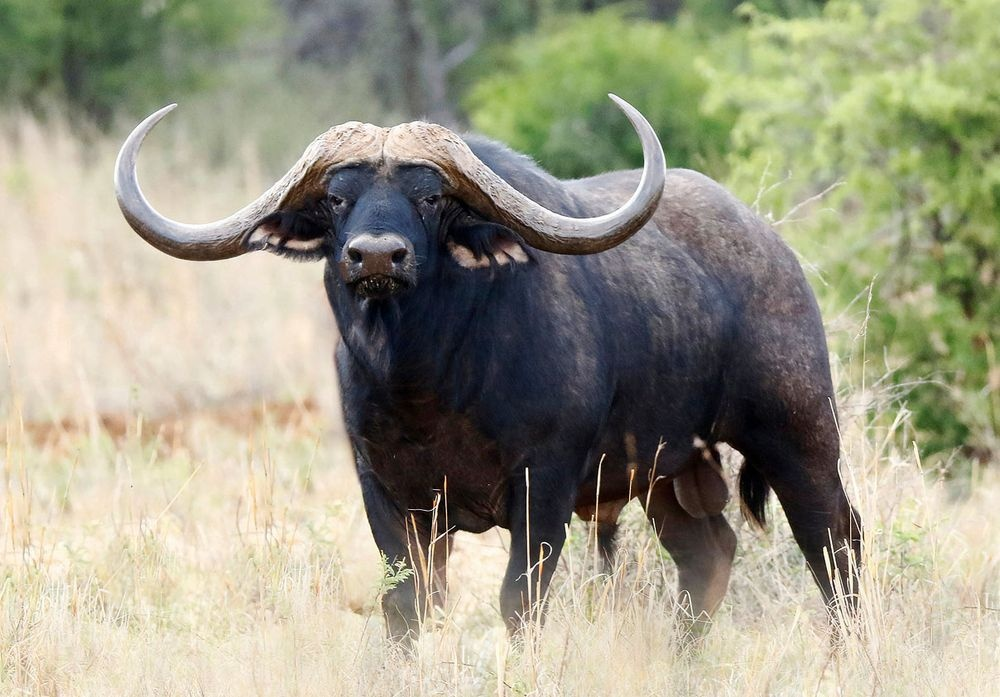buffalo: (111, 94, 866, 660)
